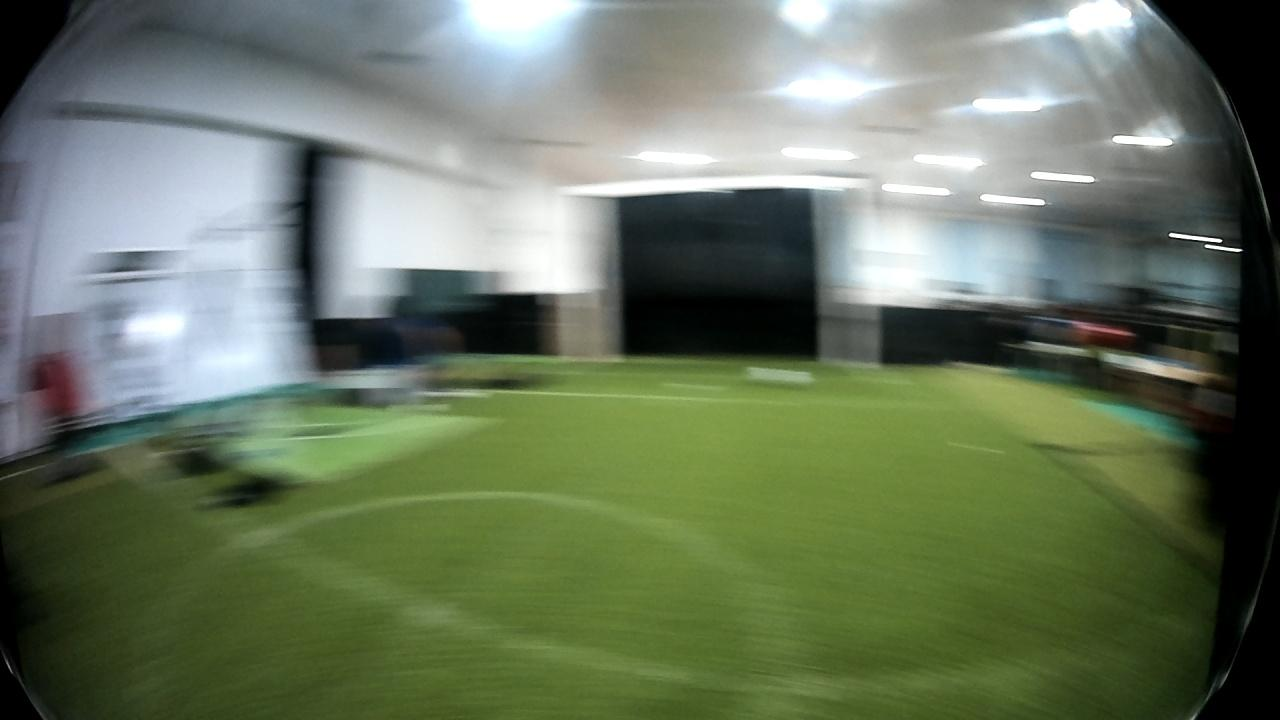ball: (743, 359, 815, 393)
